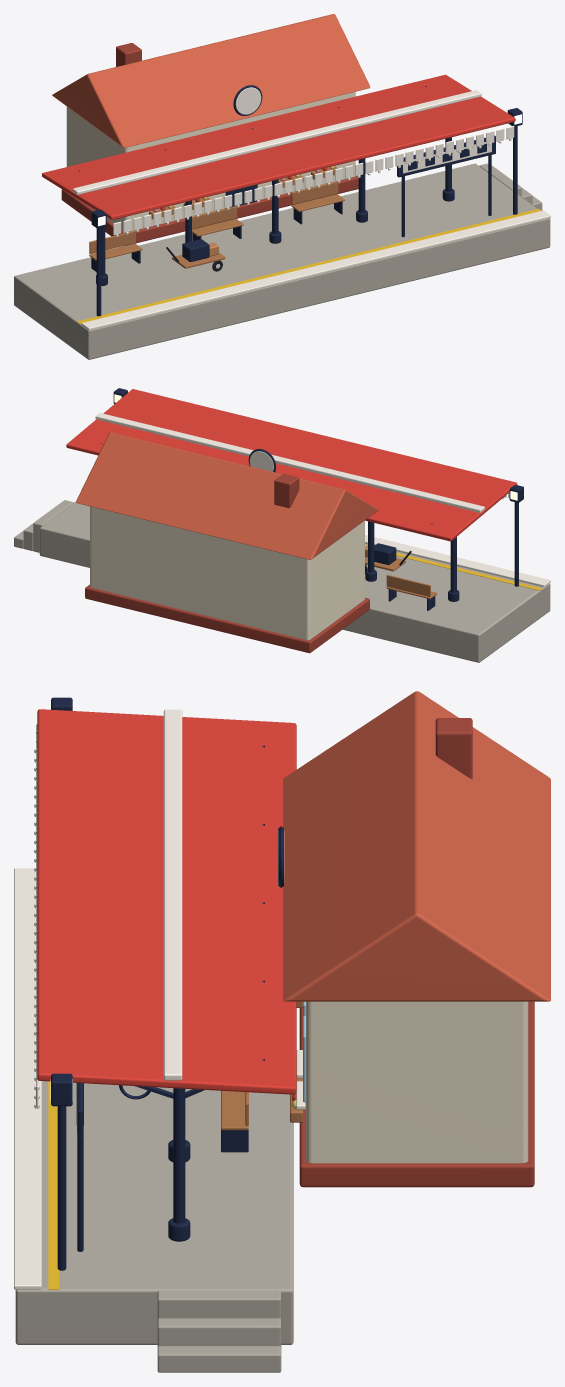
The model's file is station.glb.
3 renders of one model, top to bottom at view 1: azimuth 30°, elevation 25°; view 2: azimuth 150°, elevation 25°; view 3: azimuth 270°, elevation 25°, orthographic. The views are drawn at different scales.
Parts seen in each view (by area): view 1: station; view 2: station; view 3: station.
Boxes of the visible parts, <box> form: station: <box>14,14,550,359</box>; station: <box>14,388,550,662</box>; station: <box>14,691,550,1372</box>.
Size of the model in its own units: 17.05 by 6.2 by 8.69.
1 material, 1 textured.
